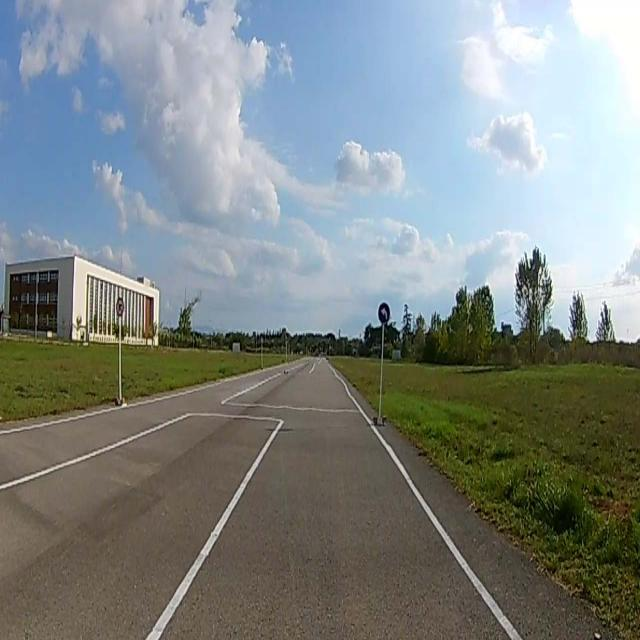sagadonulmez: (116, 297, 124, 316)
sol: (378, 304, 390, 324)
